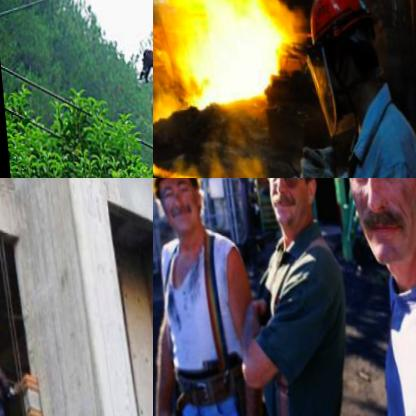helmet: (312, 178, 416, 270), (296, 0, 384, 108), (246, 178, 330, 237), (153, 178, 210, 238)
